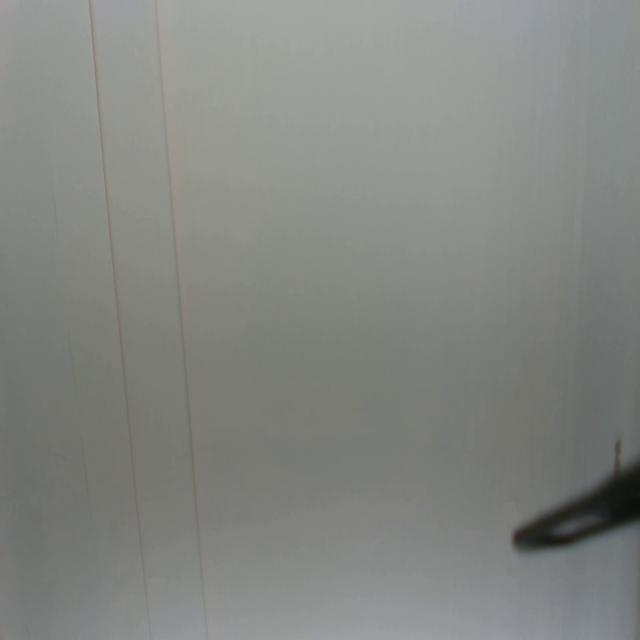crease: (88, 0, 150, 637), (156, 0, 210, 640), (50, 186, 62, 256), (68, 331, 77, 399), (80, 434, 90, 494)
hole: (613, 435, 622, 469)
